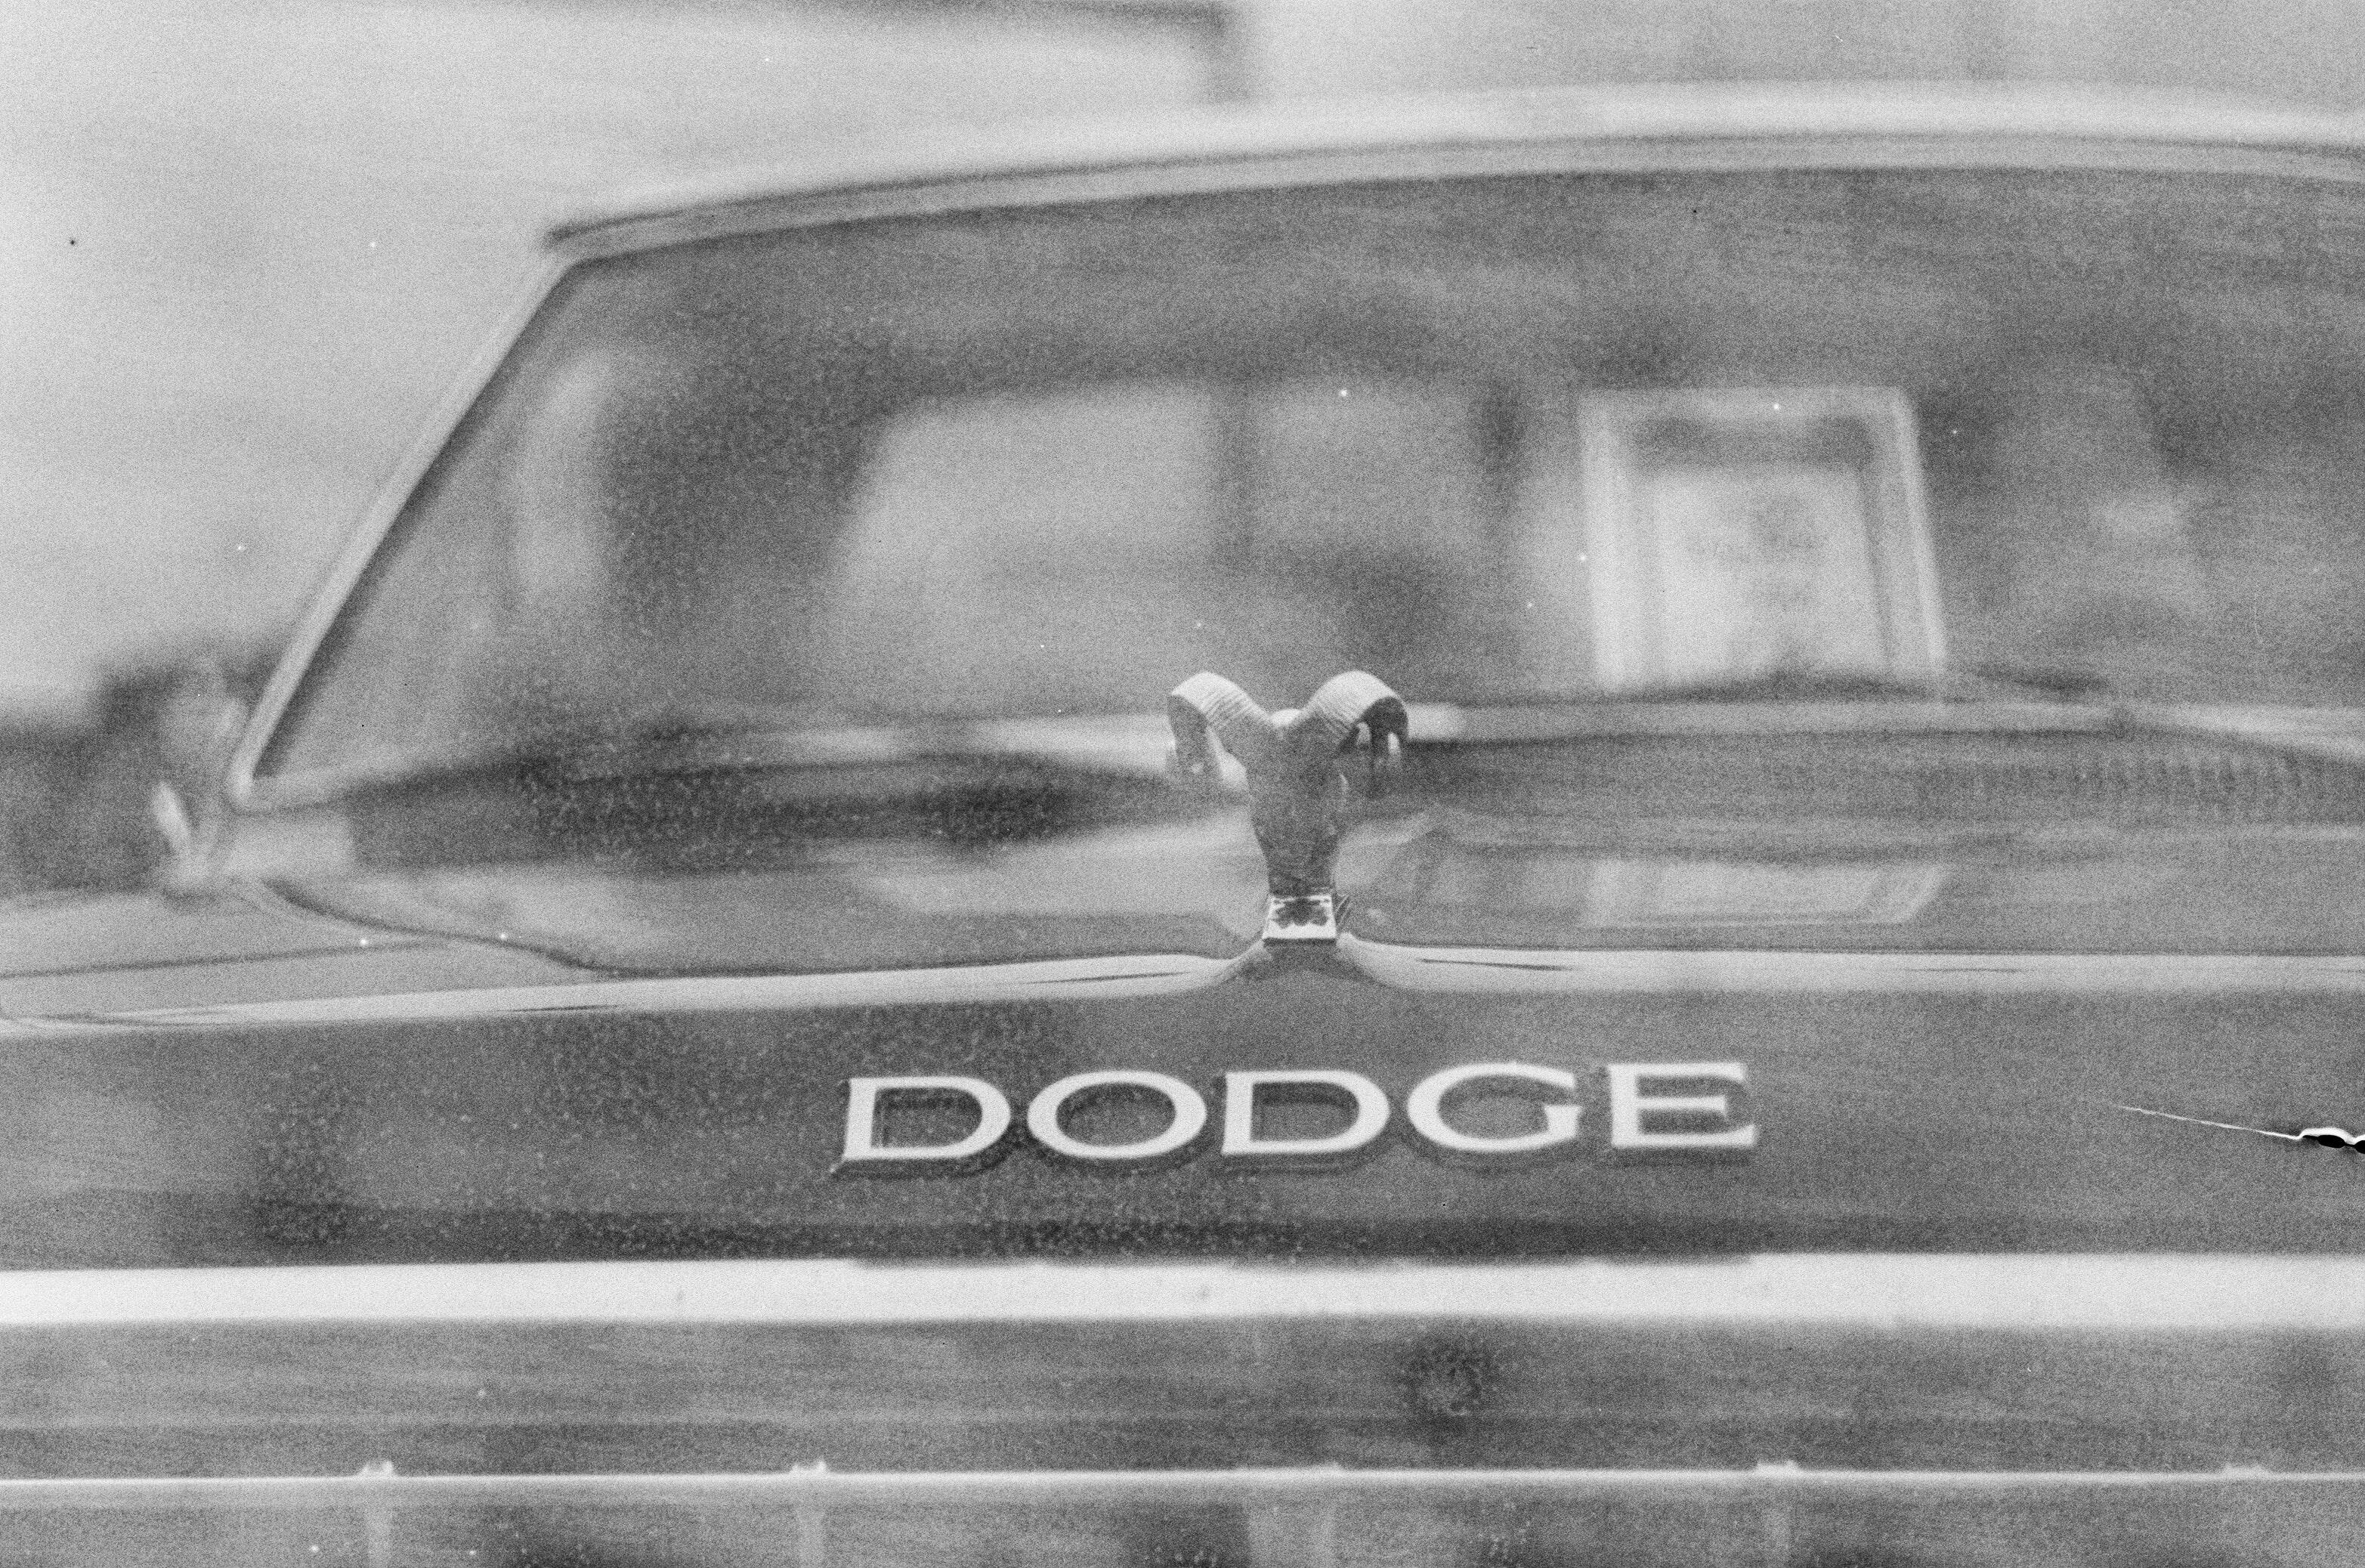dodge: (768, 1026, 1795, 1197)
